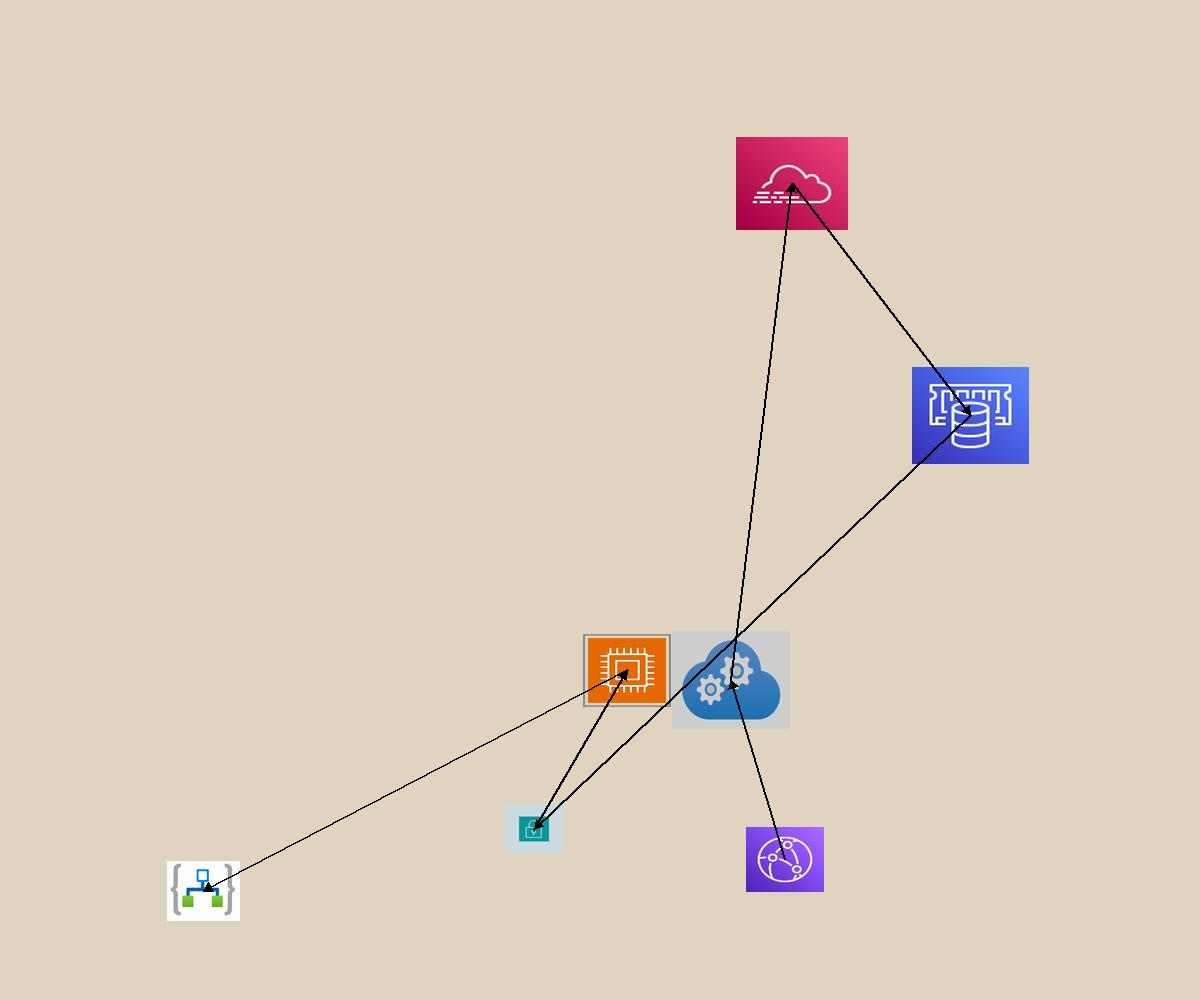AWS-Category_Compute: (583, 634, 671, 707)
AWS-CloudFront: (746, 827, 824, 892)
AWS-CloudTrail: (736, 137, 848, 230)
AWS-ElastiCache: (912, 367, 1029, 464)
AWS-Private-subnet: (504, 804, 564, 854)
Azure_cloud_services: (672, 631, 790, 729)
Azure_integration-204-Logic-Apps: (167, 861, 240, 921)
